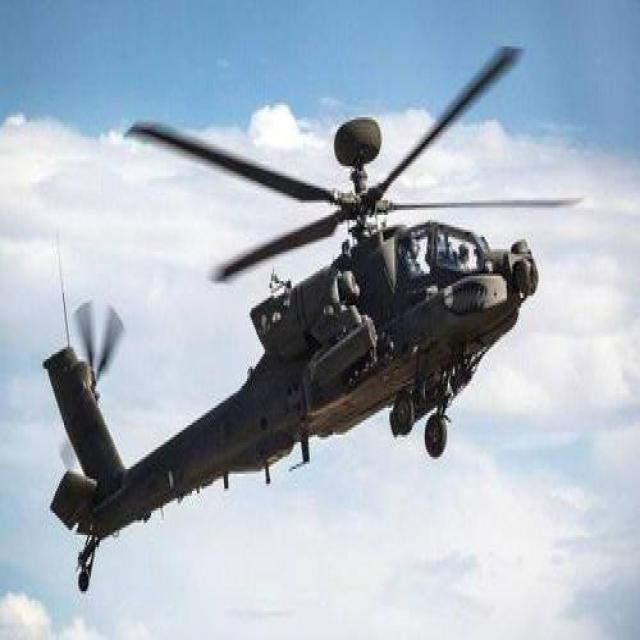MIL_HELO: (29, 27, 584, 607)
